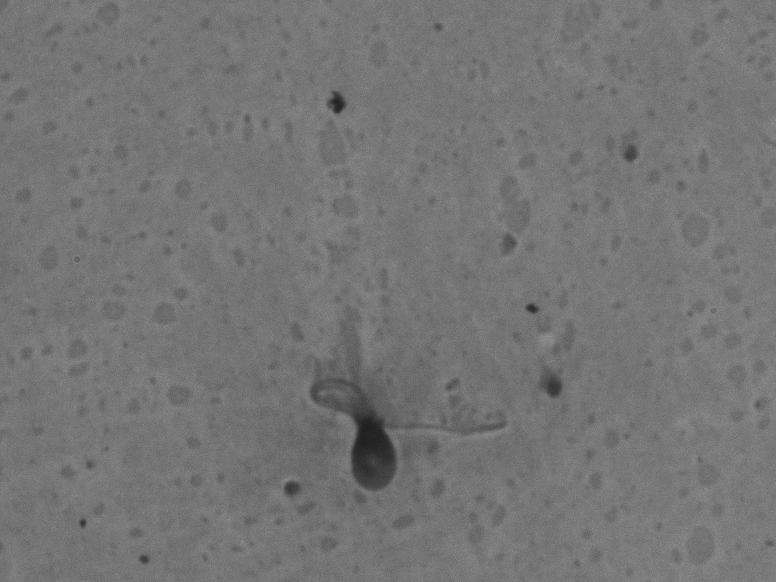Abnormal: (278, 320, 537, 526)
